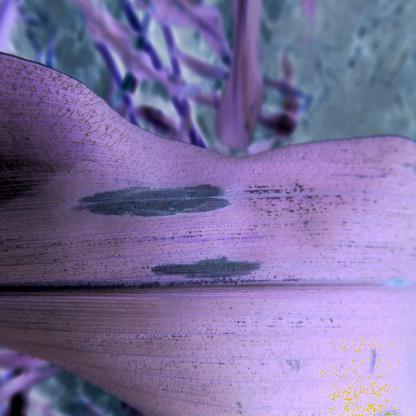Corn leaf blight: (0, 72, 411, 416)
